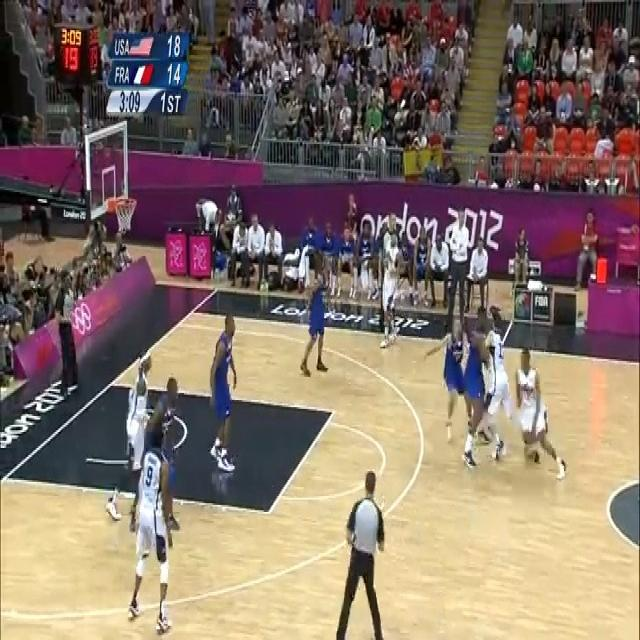hoop: (113, 200, 135, 230)
person: (128, 378, 182, 640), (208, 316, 236, 472), (299, 274, 328, 378), (60, 115, 79, 144)
